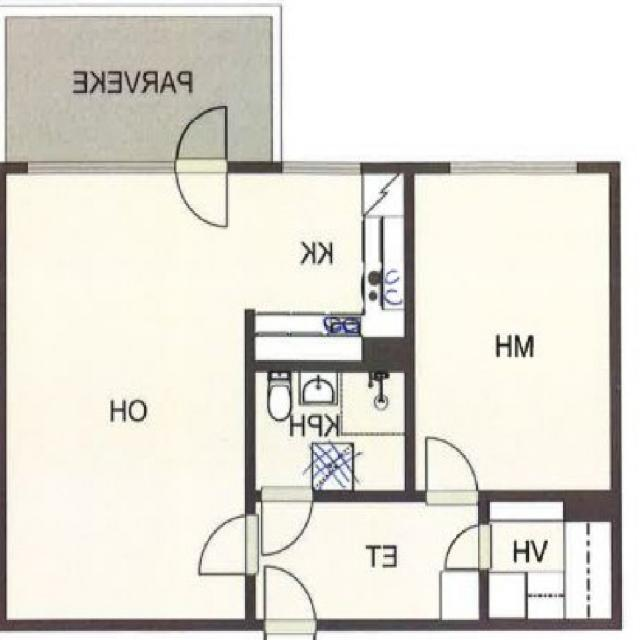door: (194, 518, 255, 576), (262, 491, 313, 560), (176, 161, 226, 231), (176, 102, 226, 172), (265, 564, 313, 632), (426, 437, 474, 502), (442, 528, 489, 570), (265, 620, 313, 640)
